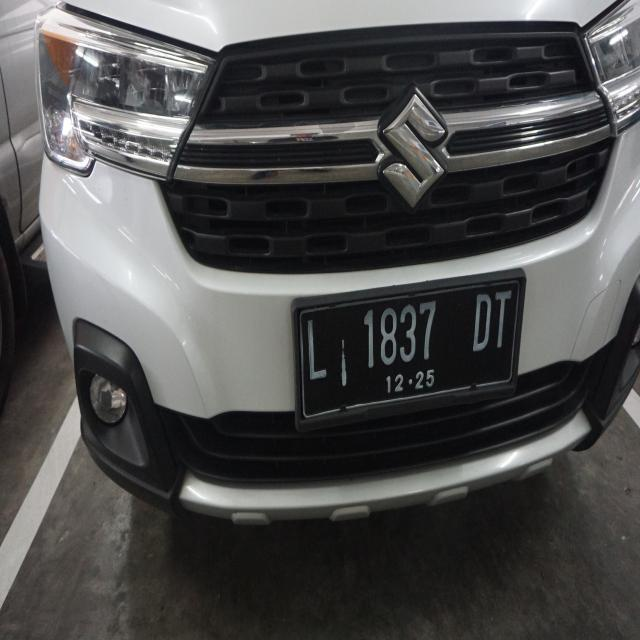1: (358, 300, 381, 376)
3: (398, 297, 420, 370)
7: (416, 294, 438, 362)
8: (375, 299, 398, 370)
D: (469, 286, 493, 354)
L: (298, 308, 328, 386)
T: (490, 286, 514, 356)
